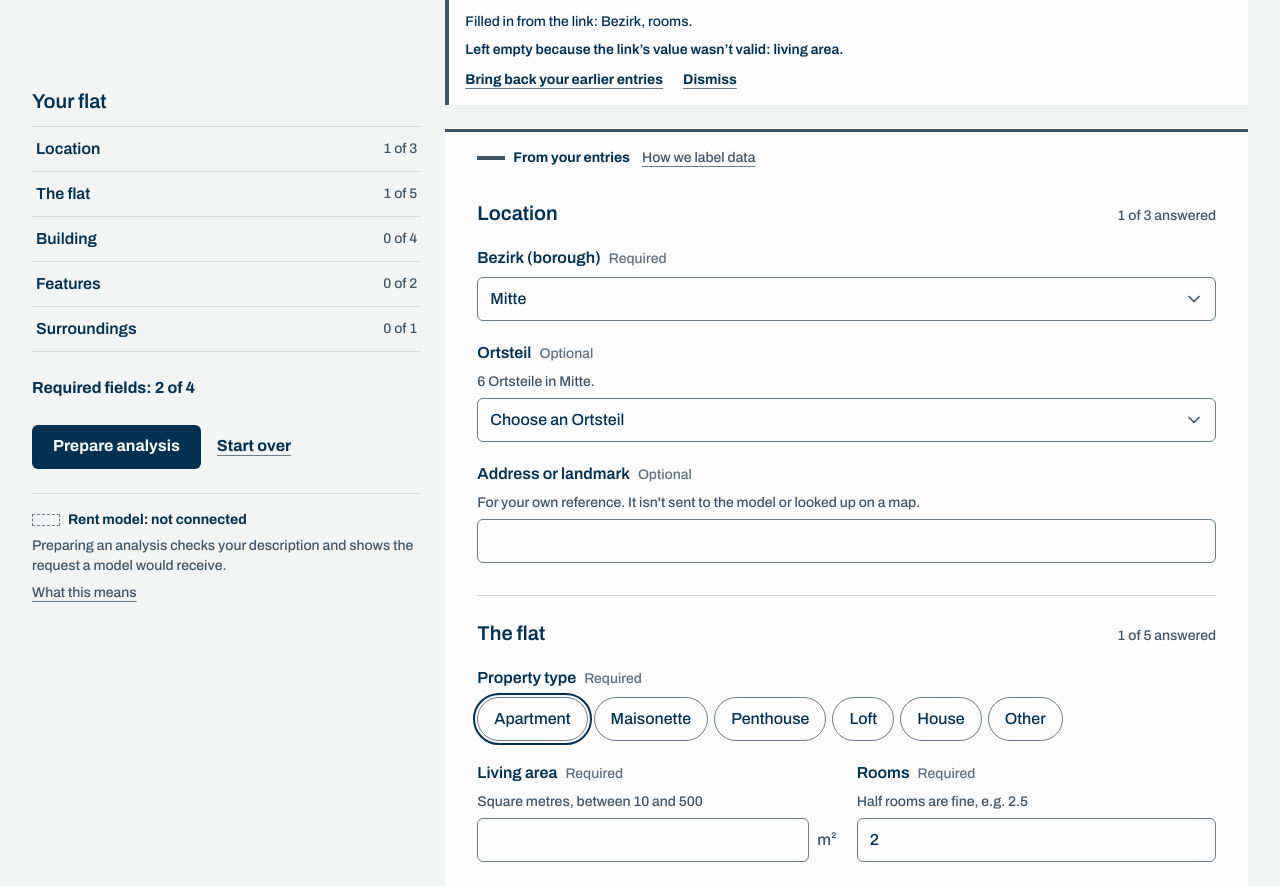
Test: PropertyAnalysisForm › applies the homepage link once: valid values in, invalid ones reported, URL cleaned (Flow 1)
Expected: the text "Filled in from the link: Bezirk, rooms." is shown, [465,14,692,29]
Expected: the text "Left empty because the link’s value wasn’t valid: living area." is shown, [465,42,843,57]
// The earlier draft is one click away.
What coordinates should you click on to do the following:
click the button "Bring back your earlier entries"
I would click on:
 (564, 81)
Its box is [465,69,663,93].
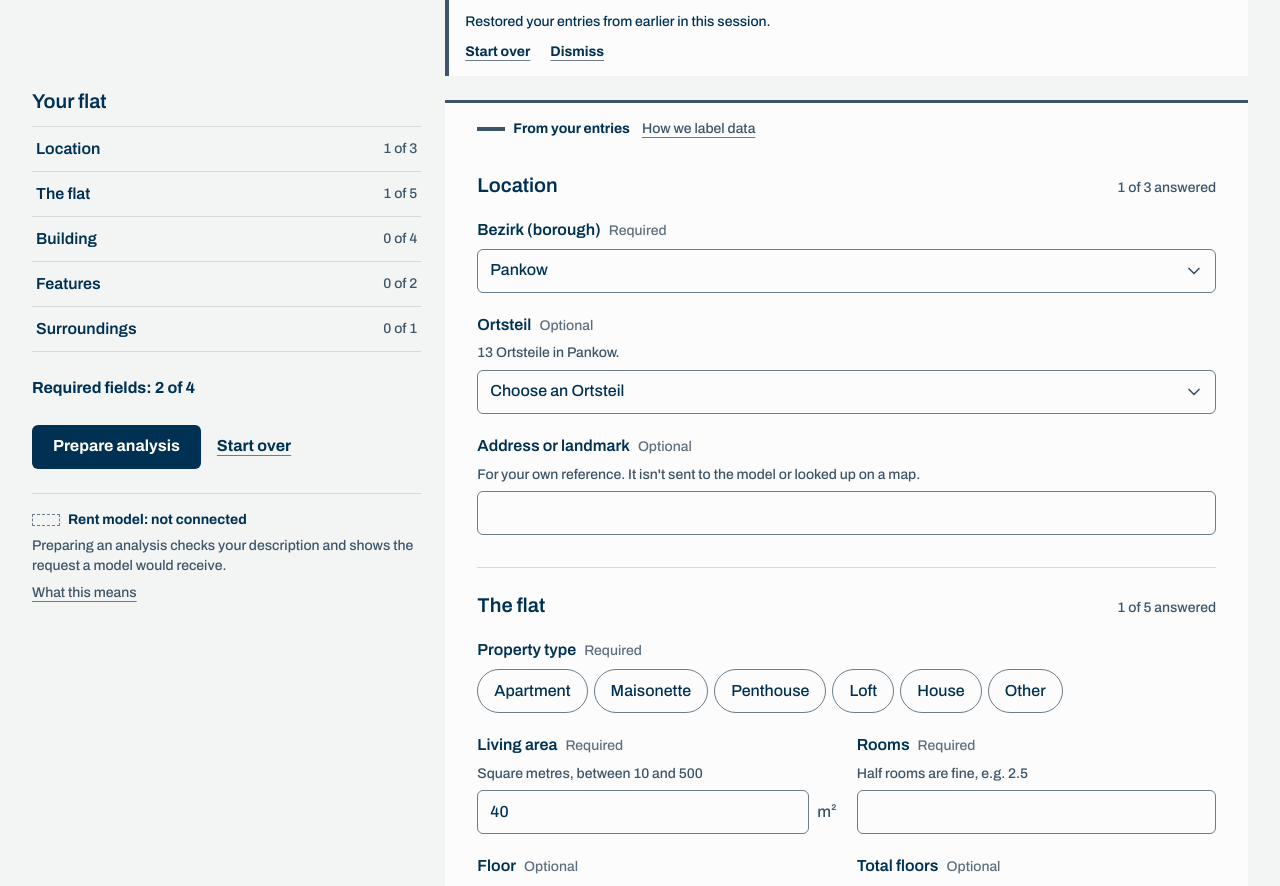
Result: the dropdown labelled "Bezirk (borough) Required" shows "Pankow" at [477,249,1216,293]
Result: the field labelled "Living area Required" holds "40" at [477,790,809,834]
